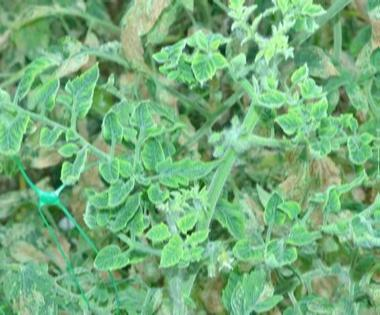Tomato leaf yellow virus: (260, 114, 316, 139), (156, 237, 188, 271), (249, 86, 294, 110), (195, 48, 217, 92), (164, 212, 204, 236)
